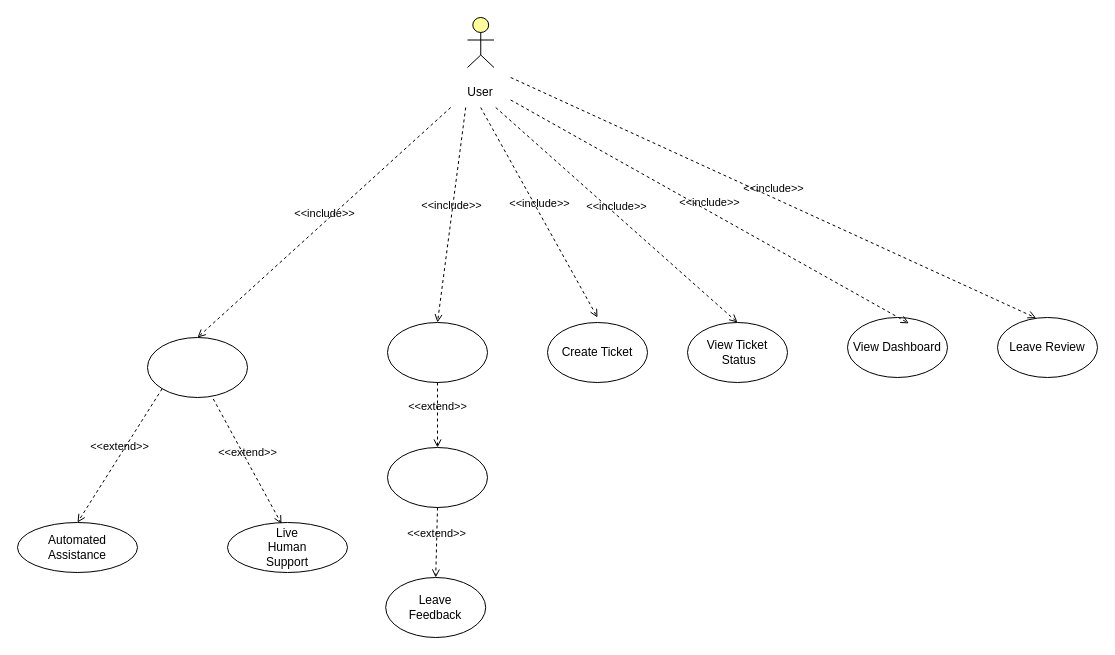
Image size: 1115x655. Some labels were removed from this diagram. Here are the shapes that lost their labels. From the top down, the box of each, then its label:
(146, 336, 248, 398): Start Chat
(386, 322, 488, 382): Browse FAQ
(386, 446, 488, 508): View Question Answer
